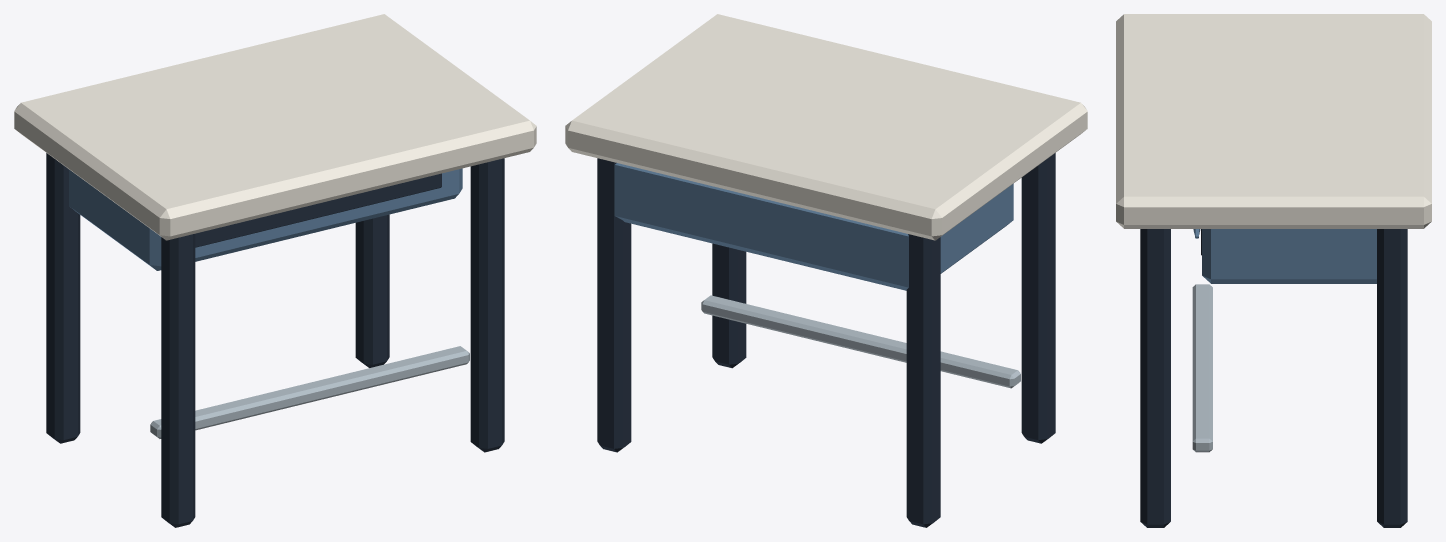
The model's file is school_01.glb.
The picture shows the model from 3 angles, left to right: view 1: azimuth 30°, elevation 25°; view 2: azimuth 150°, elevation 25°; view 3: azimuth 270°, elevation 25°; orthographic projection. The views are drawn at different scales.
Visible parts, largest first — view 1: TableTop, Leg (×4), UnderDeskPocket, FootRest, PocketOpening; view 2: TableTop, Leg (×4), UnderDeskPocket, FootRest; view 3: TableTop, Leg (×2), UnderDeskPocket, FootRest.
Boxes of the visible parts, x1,y1,x2,y2 form: TableTop: (14, 14, 536, 240); Leg (×4): (46, 153, 504, 527); UnderDeskPocket: (69, 168, 462, 270); FootRest: (150, 346, 469, 438); PocketOpening: (195, 173, 441, 247); TableTop: (565, 14, 1087, 240); Leg (×4): (597, 153, 1055, 527); UnderDeskPocket: (614, 163, 1013, 290); FootRest: (701, 295, 1020, 388); TableTop: (1116, 14, 1431, 228); Leg (×2): (1140, 229, 1407, 527); UnderDeskPocket: (1202, 229, 1376, 283); FootRest: (1192, 284, 1212, 452).
Size of the model in its own units: 0.88 by 0.74 by 0.62.
